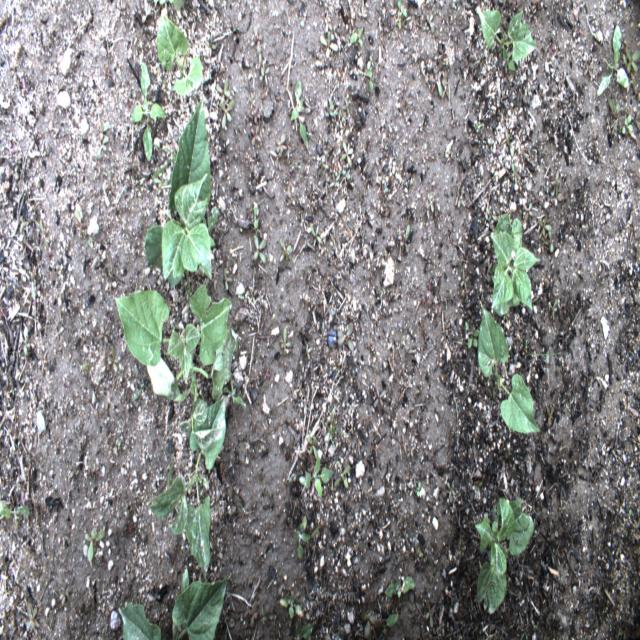crop: (114, 286, 240, 425), (144, 100, 217, 308), (147, 398, 226, 574), (477, 302, 540, 434), (476, 497, 534, 614), (486, 215, 540, 314), (172, 564, 230, 640), (473, 8, 538, 73), (155, 14, 203, 98), (117, 598, 163, 640)
weed: (130, 61, 167, 162), (597, 24, 629, 96), (299, 456, 334, 500), (290, 80, 308, 147), (323, 404, 343, 449), (292, 515, 311, 560), (84, 527, 106, 562), (385, 576, 417, 600), (0, 499, 29, 525), (359, 599, 377, 638), (279, 592, 304, 619), (318, 30, 340, 59), (337, 322, 355, 351), (252, 234, 268, 266), (622, 46, 640, 74), (220, 97, 235, 130), (464, 321, 481, 350), (214, 77, 231, 105), (278, 235, 294, 264), (333, 464, 351, 489), (398, 224, 412, 254), (293, 620, 313, 640), (341, 138, 354, 168), (108, 343, 120, 375), (280, 326, 291, 358), (349, 27, 365, 48), (546, 297, 558, 324), (26, 606, 38, 632), (152, 0, 186, 9), (621, 113, 634, 136), (306, 434, 318, 458), (424, 602, 435, 628), (276, 133, 290, 153), (310, 225, 322, 248), (269, 149, 282, 168), (251, 199, 259, 229), (385, 612, 399, 628), (58, 589, 69, 609), (328, 173, 341, 189), (318, 160, 329, 176), (416, 480, 421, 498)
